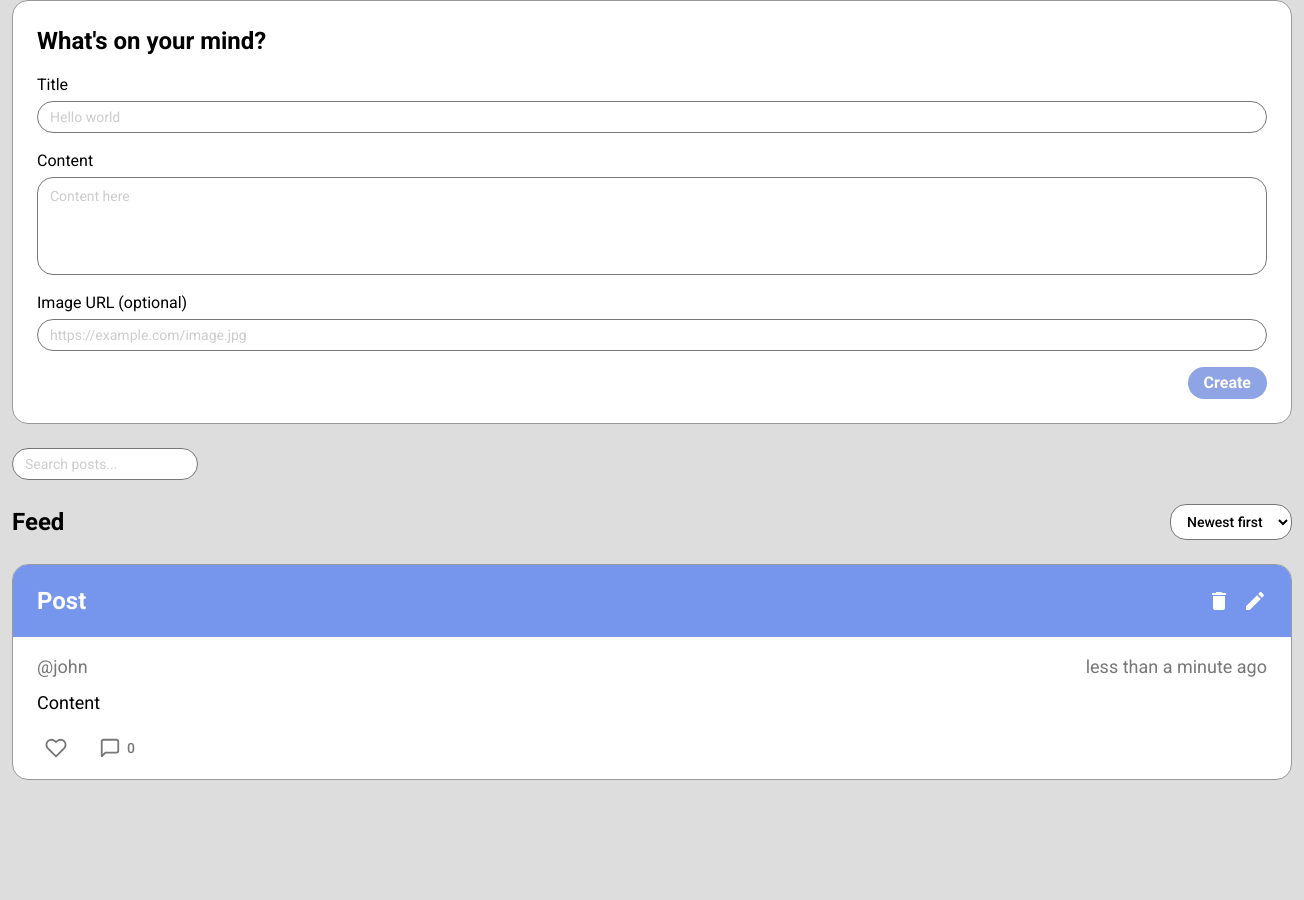
Test: Smoke: Likes › like button toggles state
Expected: the heading "Post" is shown, [37, 585, 86, 617]
Click the button named "like post" at (56, 748), box [37, 733, 75, 763]
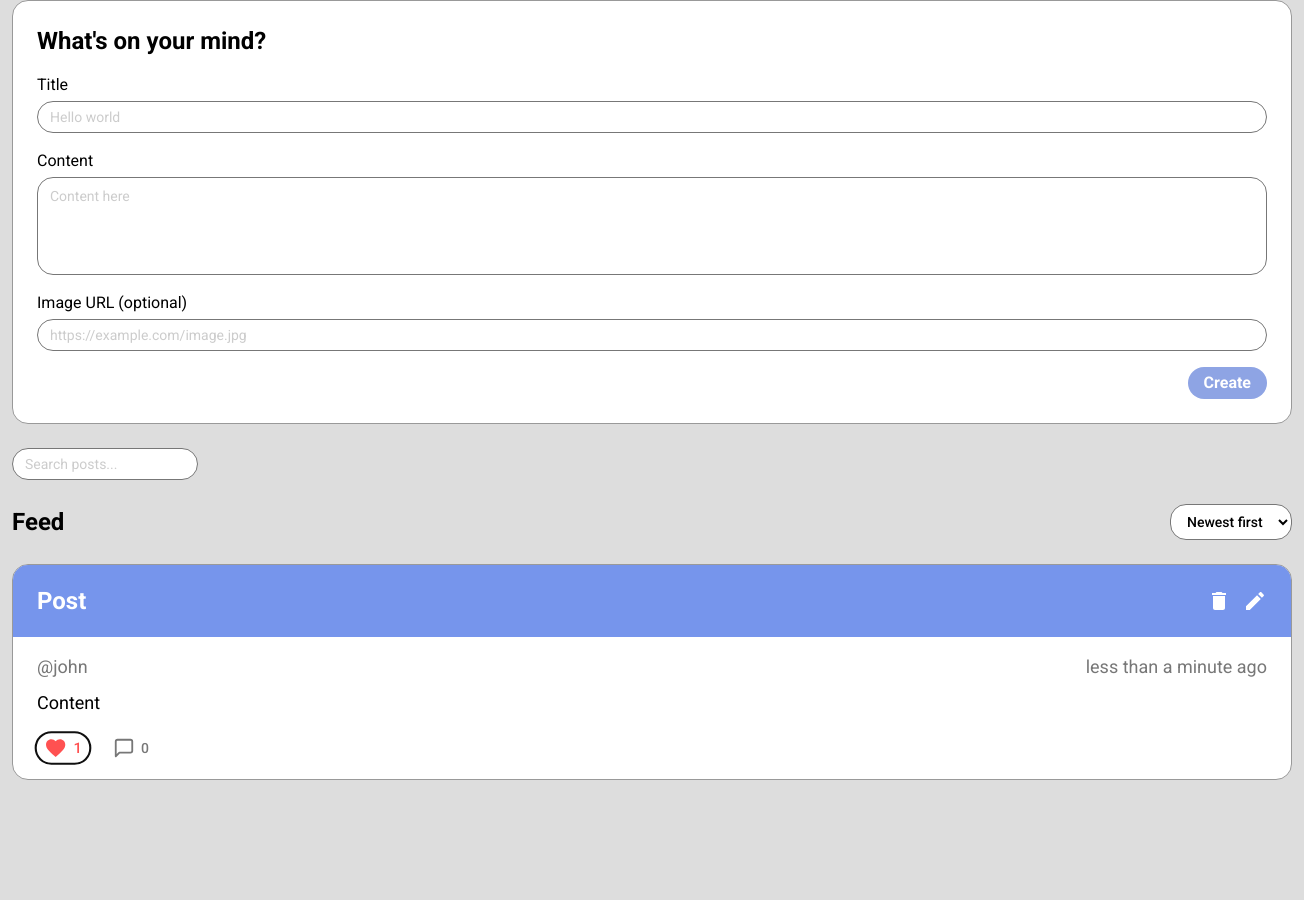
Now the button named "unlike post" is shown, box [36, 732, 90, 764]
